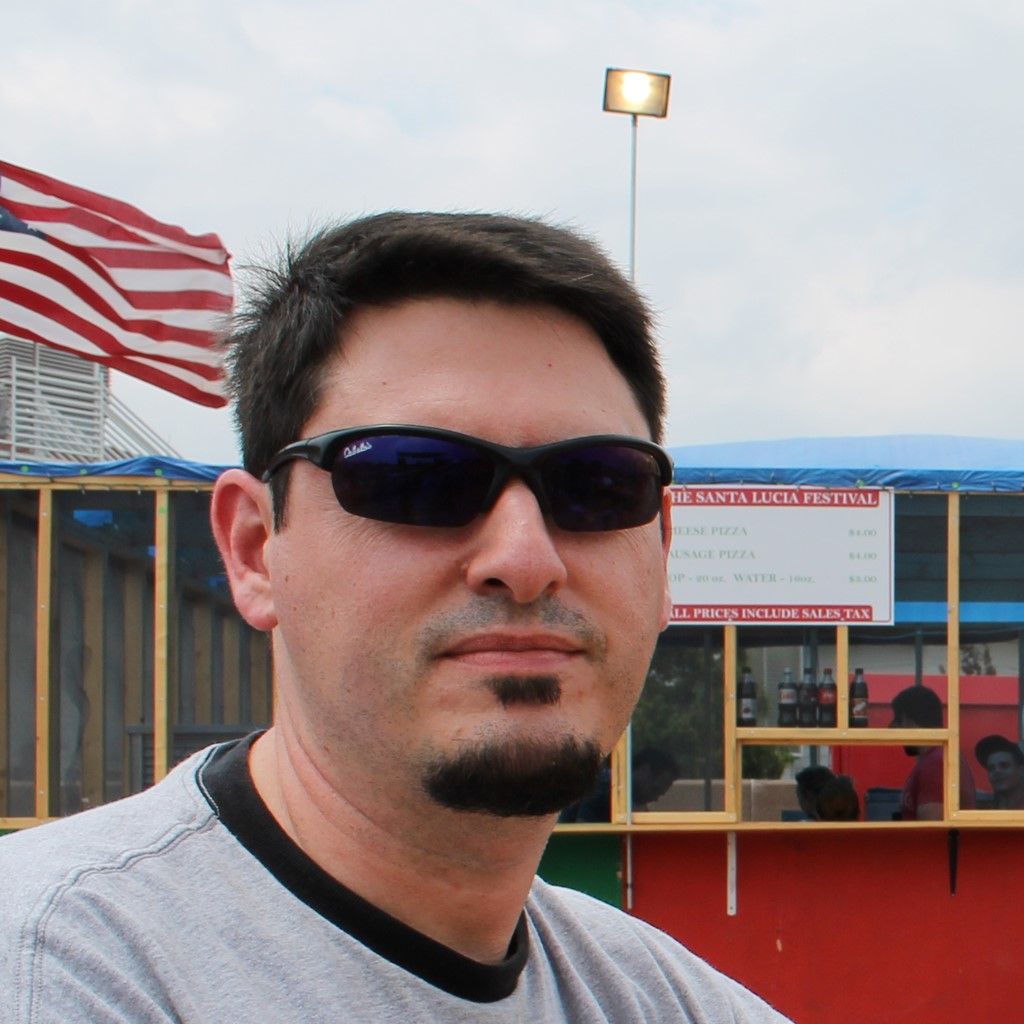sin_mascara: (226, 256, 669, 825)
